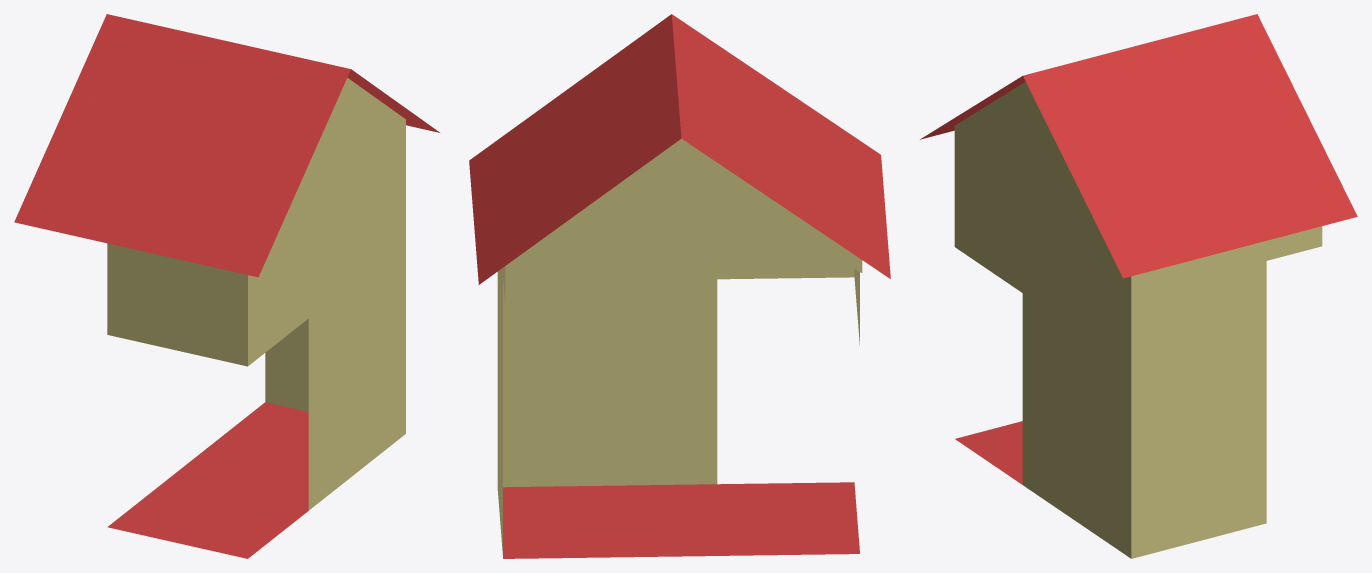
3 renders of one model, left to right at view 1: azimuth 30°, elevation 25°; view 2: azimuth 150°, elevation 25°; view 3: azimuth 270°, elevation 25°, orthographic. The views are drawn at different scales.
Size of the model in its own units: 13.76 by 12.74 by 13.78.
